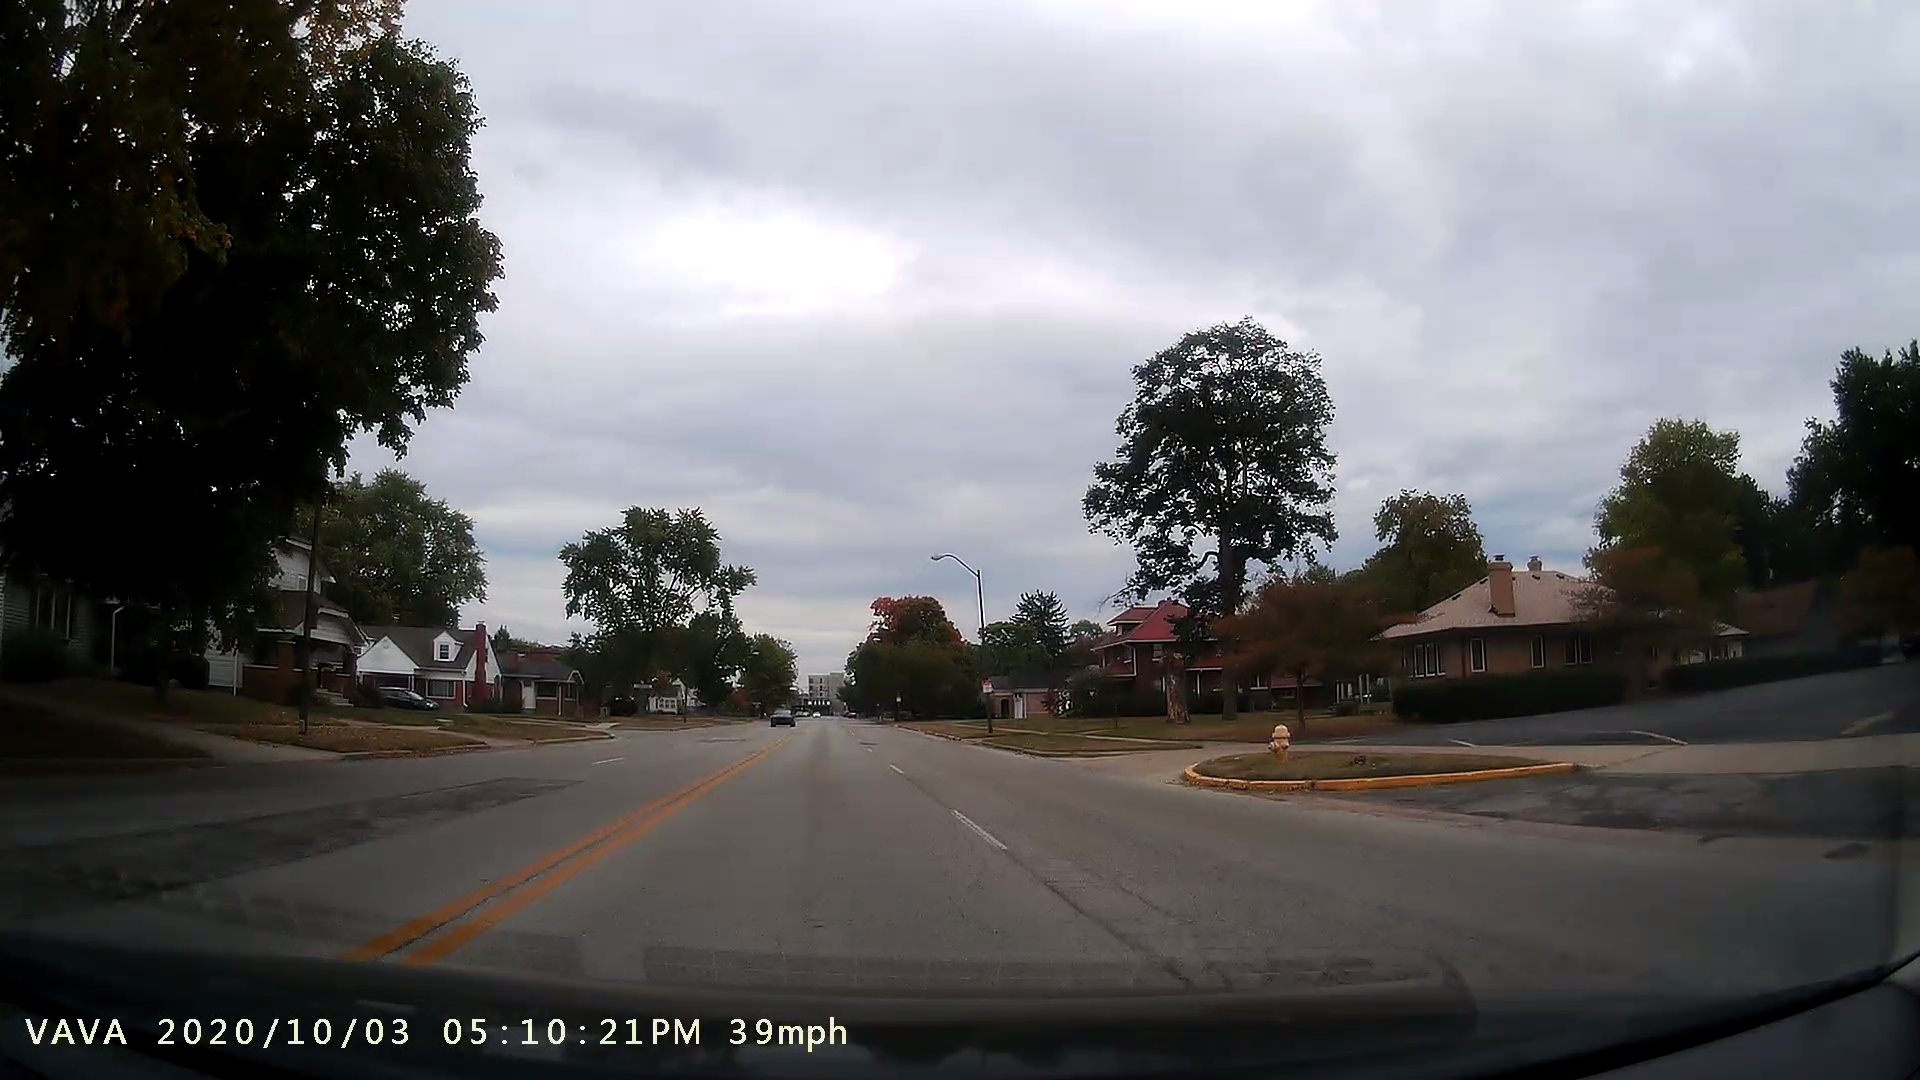fire_hydrant: (1262, 712, 1298, 770)
